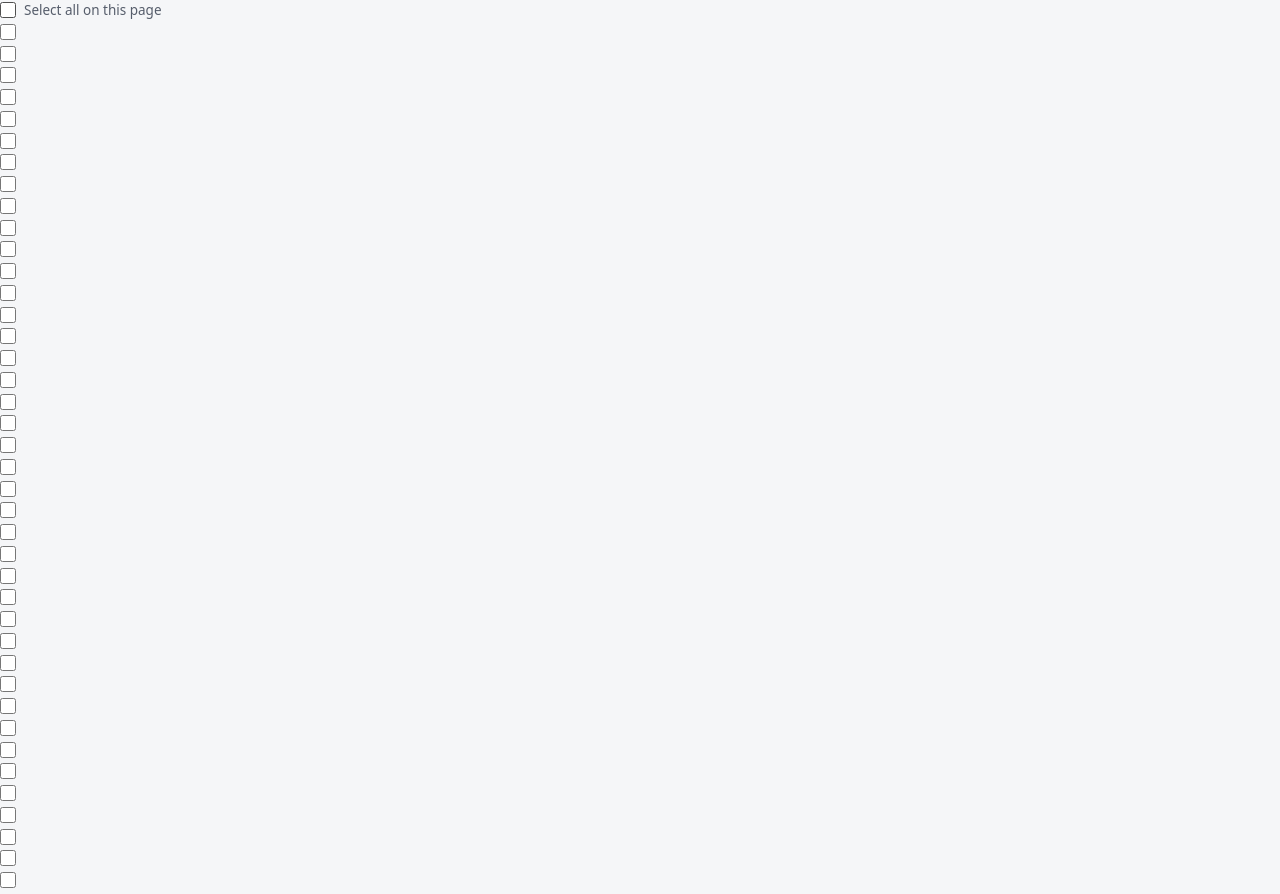
Test: Mark reviewed (AC-3) › a failed chunk stops, says how many were handled, and keeps the selection
This screenshot has width=1280, height=894.
Click the checkbox labelled "Select all on this page".
click(8, 10)  # box [0,2,16,18]
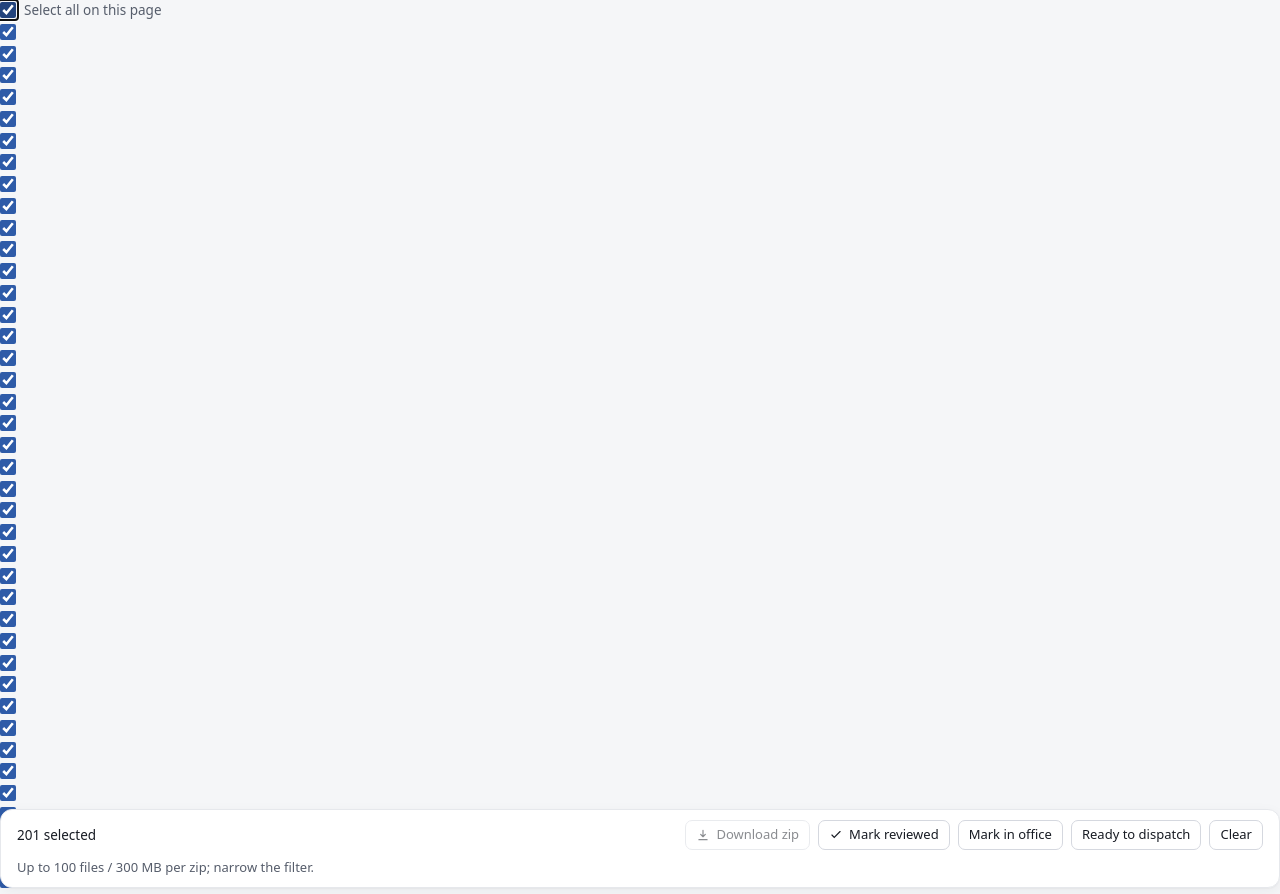
Click the button "Mark reviewed".
click(884, 834)  # box [818,820,950,850]
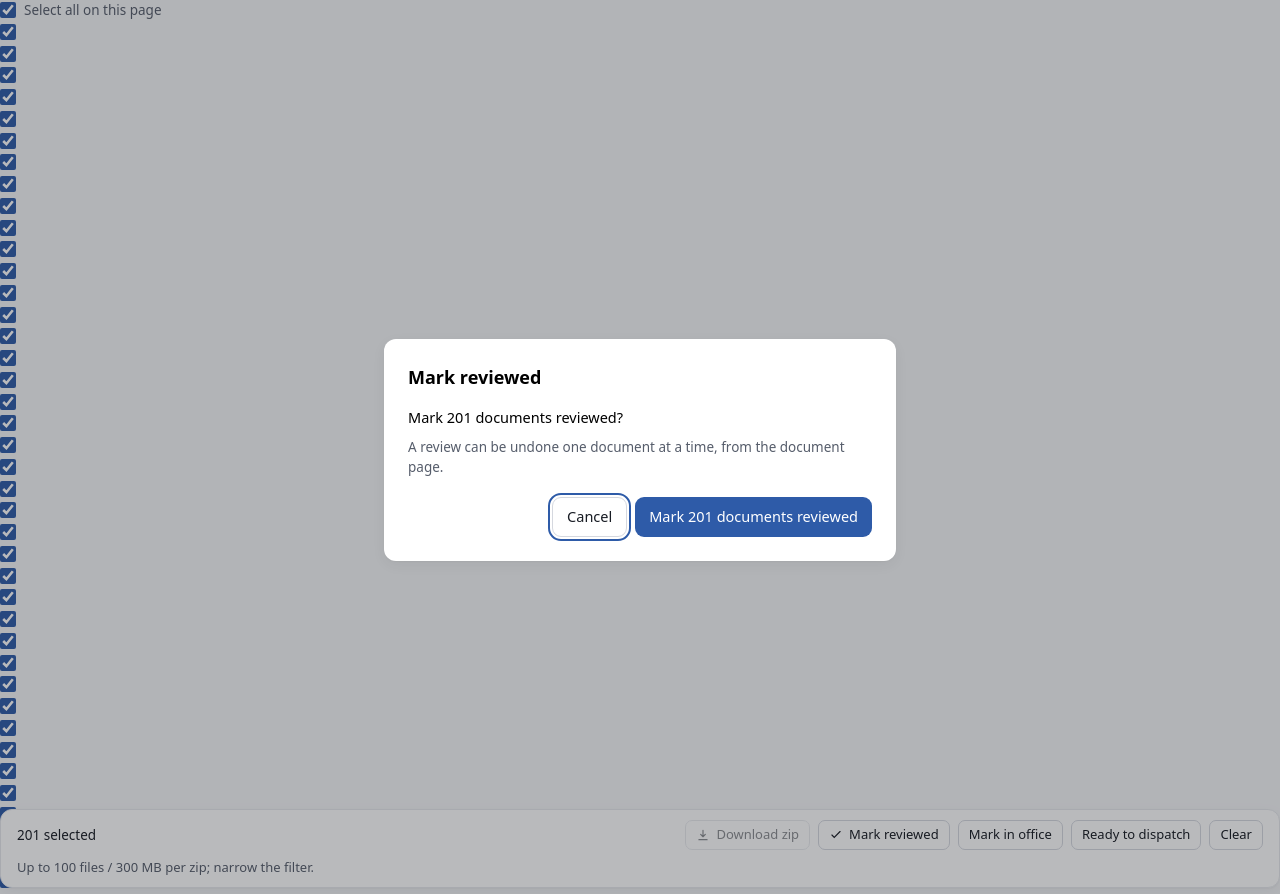
Click the button "Mark 201 documents reviewed".
click(754, 517)  # box [635,497,872,537]
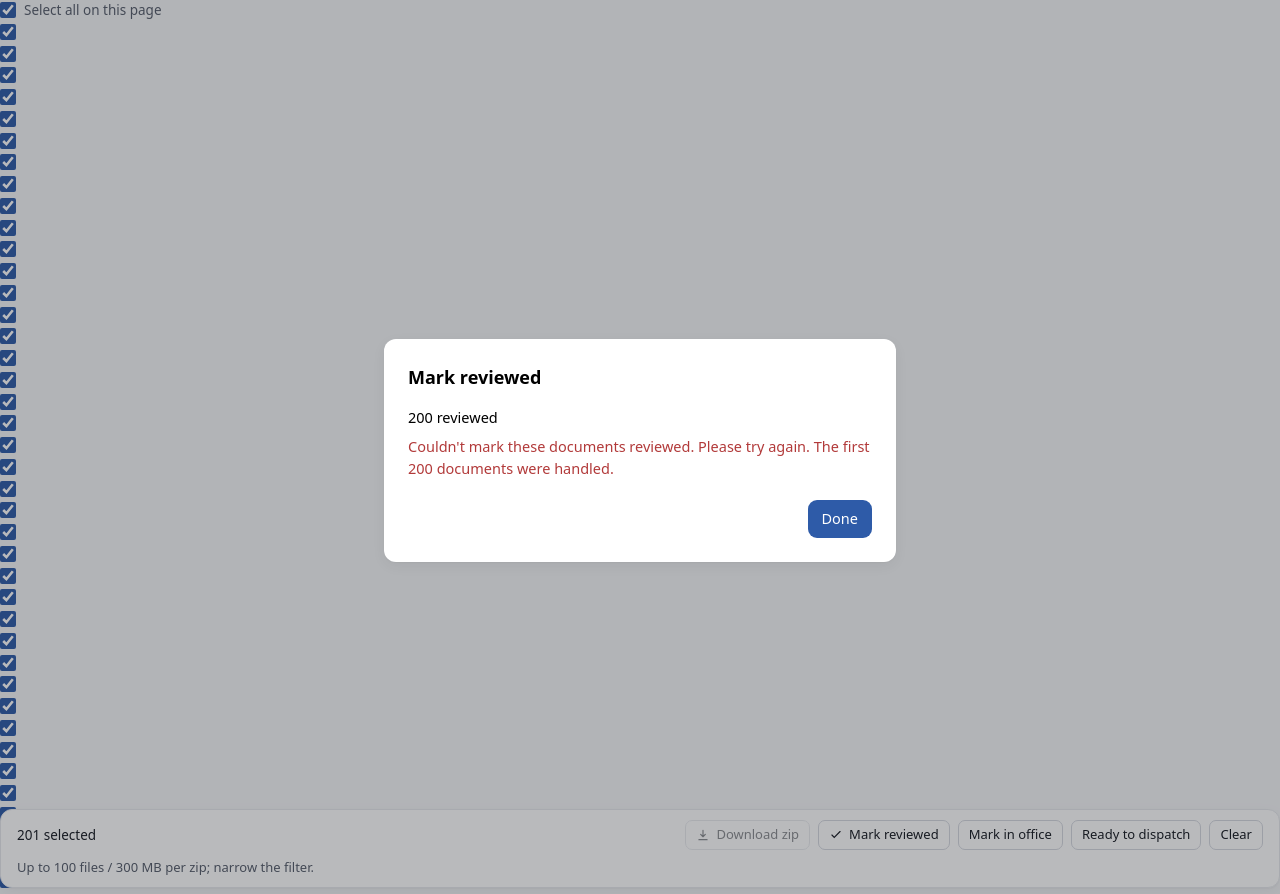
Expected: the 2nd message shows "The first 200 documents were handled.", [408,436,870,478]
Expected: the text "200 reviewed" is shown, [408,406,498,426]
